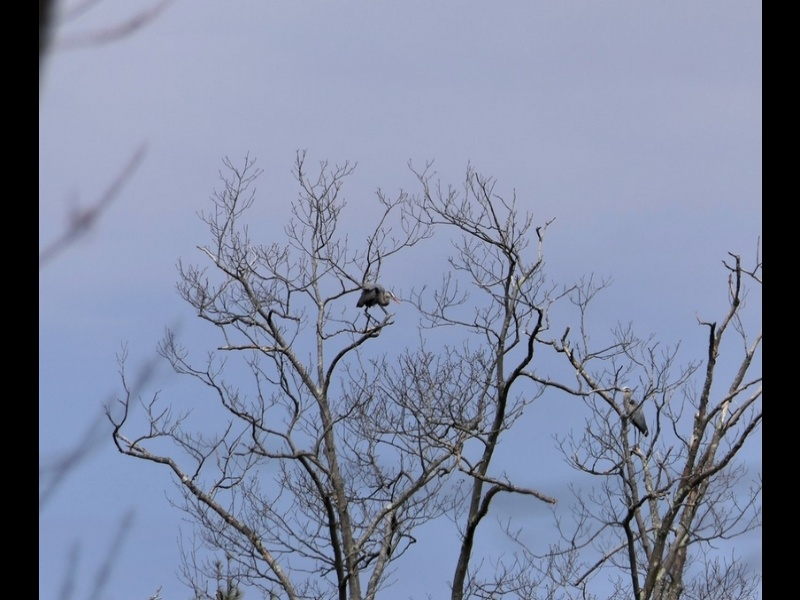heron: (355, 282, 391, 332)
